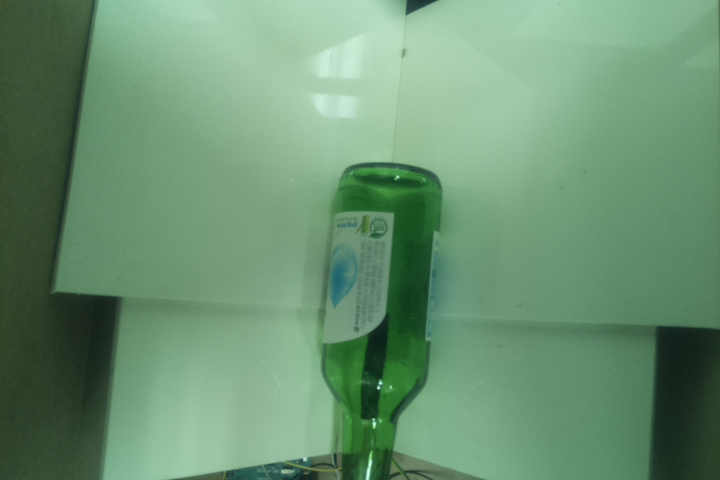soju: (320, 162, 446, 480)
